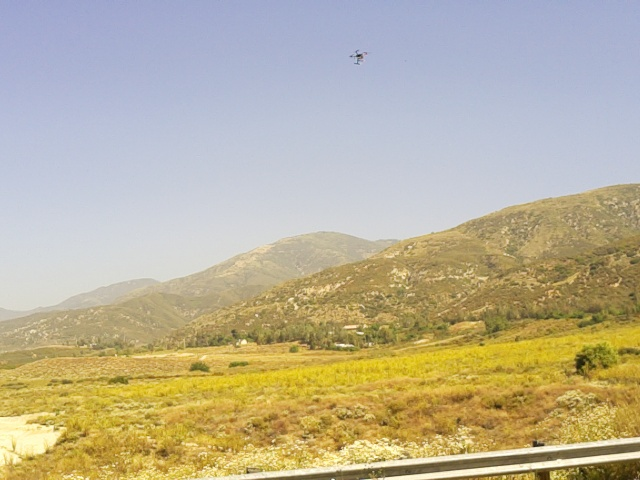quadcopter: (349, 47, 374, 66)
